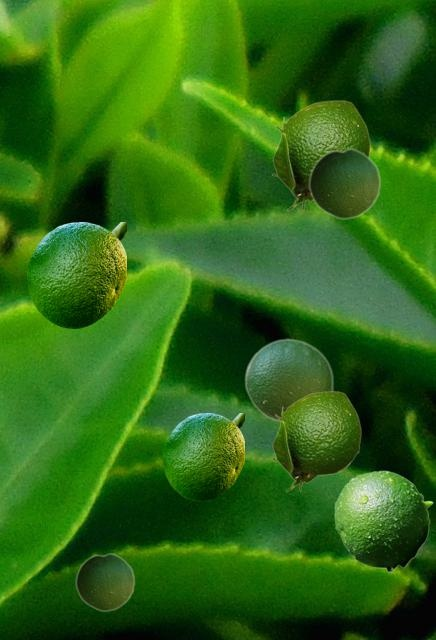dalandan: (271, 100, 369, 210), (27, 222, 125, 327), (334, 470, 432, 571), (271, 391, 360, 491), (244, 338, 333, 422), (163, 413, 243, 500), (308, 147, 380, 219), (75, 552, 134, 611)
